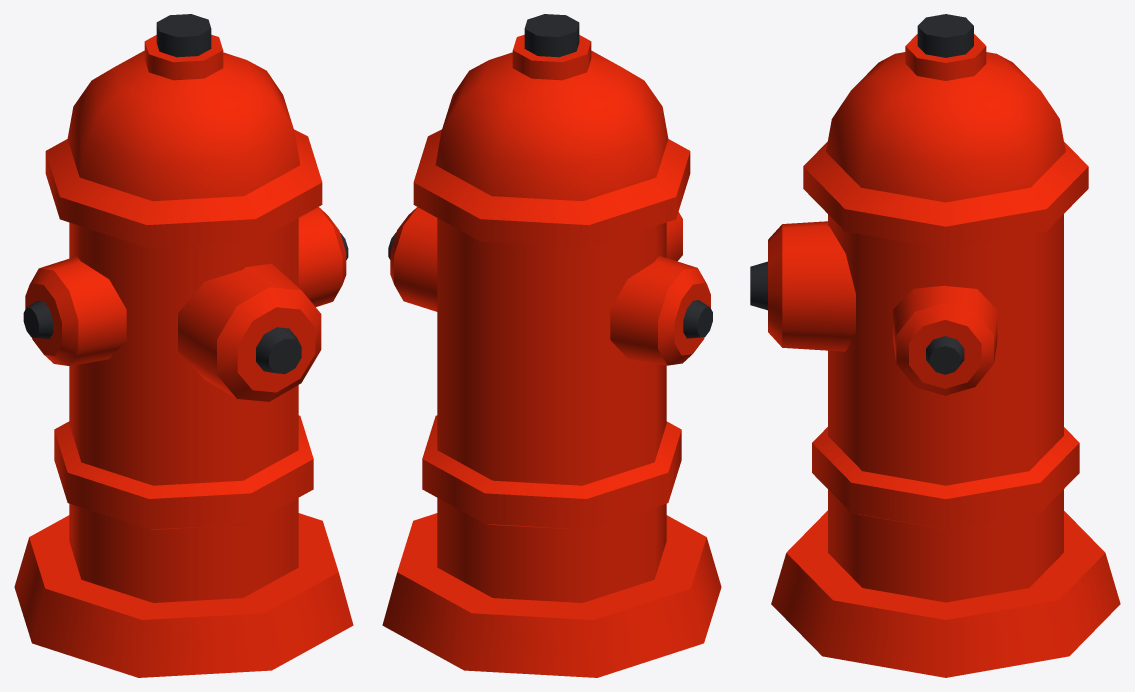
File: FireHydrant_1.fbx
3 views of the same model, side by side, from view 1: azimuth 30°, elevation 25°; view 2: azimuth 150°, elevation 25°; view 3: azimuth 270°, elevation 25° (orthographic).
Visible parts, largest first — view 1: FireHydrant_1; view 2: FireHydrant_1; view 3: FireHydrant_1.
Boxes of the visible parts, <box> form: FireHydrant_1: <box>14,14,353,677</box>; FireHydrant_1: <box>382,14,721,677</box>; FireHydrant_1: <box>750,14,1120,677</box>.
Bounding box in the file's own units: 54.2 × 97.24 × 56.45.
